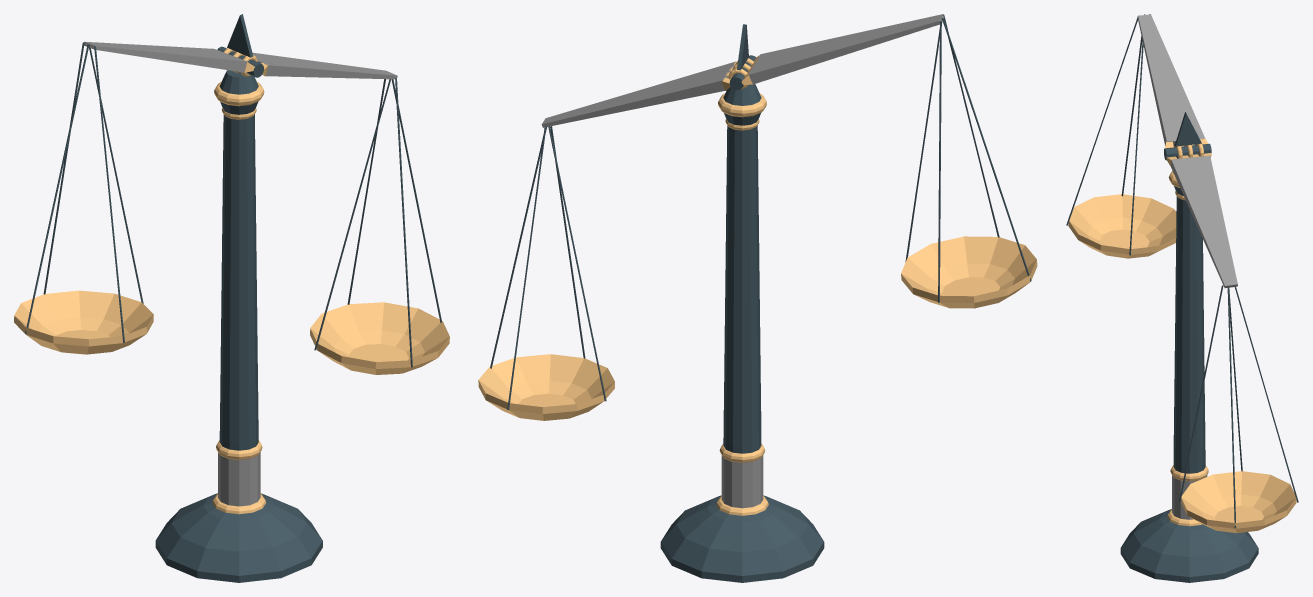
File: Waage 3.fbx
3 renders of one model, left to right at view 1: azimuth 30°, elevation 25°; view 2: azimuth 150°, elevation 25°; view 3: azimuth 270°, elevation 25°, orthographic. The views are drawn at different scales.
Visible parts, largest first — view 1: mesh_1645211238, mesh_1509641040, mesh_2063865923, mesh_2075815074, mesh_131527867, mesh_1640879320, mesh_1440307257, mesh_1512835569, mesh_717037476, mesh_1647324675, mesh_904988053, mesh_1700813215 (+4 smaller); view 2: mesh_1645211238, mesh_1509641040, mesh_2075815074, mesh_2063865923, mesh_131527867, mesh_1640879320, mesh_1440307257, mesh_1783840908; view 3: mesh_1645211238, mesh_1509641040, mesh_2075815074, mesh_2063865923, mesh_1640879320, mesh_131527867, mesh_1440307257, mesh_995072892, mesh_1435350237, mesh_717037476, mesh_2011199820, mesh_2051965528 (+5 smaller).
Boxes of the visible parts, box(x1,y1,x2,y2) form: mesh_1645211238: box(219, 70, 258, 450); mesh_1509641040: box(155, 493, 322, 582); mesh_2063865923: box(310, 302, 449, 374); mesh_2075815074: box(14, 290, 153, 354); mesh_131527867: box(84, 41, 247, 72); mesh_1640879320: box(252, 52, 397, 79); mesh_1440307257: box(218, 452, 260, 506); mesh_1512835569: box(25, 44, 89, 333); mesh_717037476: box(395, 78, 412, 367); mesh_1647324675: box(94, 46, 124, 342); mesh_904988053: box(314, 79, 390, 350); mesh_1700813215: box(214, 82, 264, 106); mesh_1645211238: box(723, 84, 761, 453); mesh_1509641040: box(660, 495, 824, 582); mesh_2075815074: box(901, 236, 1037, 308); mesh_2063865923: box(478, 354, 614, 420); mesh_131527867: box(748, 14, 944, 84); mesh_1640879320: box(541, 61, 735, 127); mesh_1440307257: box(721, 455, 763, 508); mesh_1783840908: box(938, 21, 941, 302); mesh_1645211238: box(1173, 173, 1205, 473); mesh_1509641040: box(1120, 509, 1258, 582); mesh_2075815074: box(1068, 194, 1176, 258); mesh_2063865923: box(1181, 471, 1296, 533); mesh_1640879320: box(1171, 155, 1237, 288); mesh_131527867: box(1138, 14, 1205, 147); mesh_1440307257: box(1172, 475, 1207, 519); mesh_995072892: box(1227, 287, 1236, 528); mesh_1435350237: box(1175, 112, 1201, 146); mesh_717037476: box(1179, 285, 1223, 502); mesh_2011199820: box(1129, 40, 1143, 255); mesh_2051965528: box(1234, 287, 1298, 502).
Bounding box in the file's own units: 144 × 161 × 72.46.
